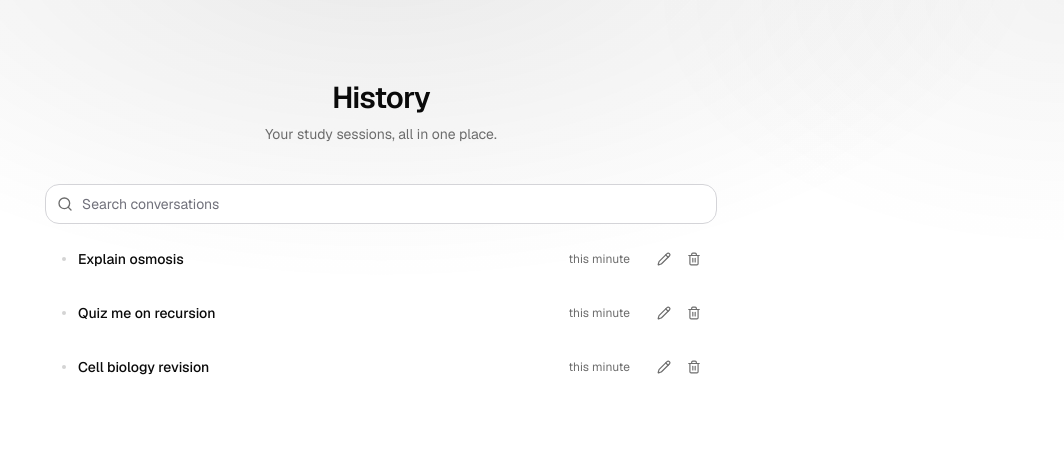
Scenario: HistoryClient — rename › a failed save keeps the form open with the error, and the old title stays
Click the button named "Rename conversation" in the row of "Explain osmosis". click: (664, 259)
box: x1=650 y1=245 x2=678 y2=273
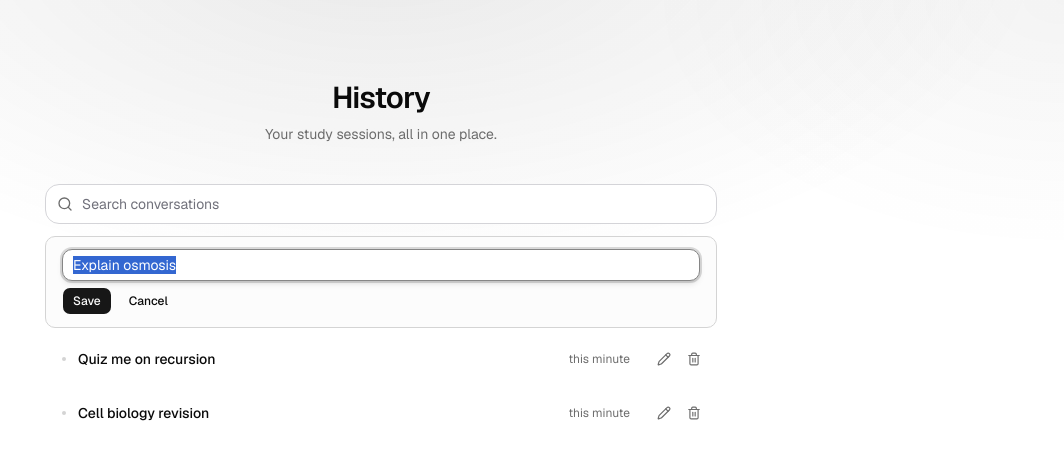
Replace the text in the field named "Conversation title" with "Something else". click: (381, 265)
box: x1=62 y1=249 x2=700 y2=281
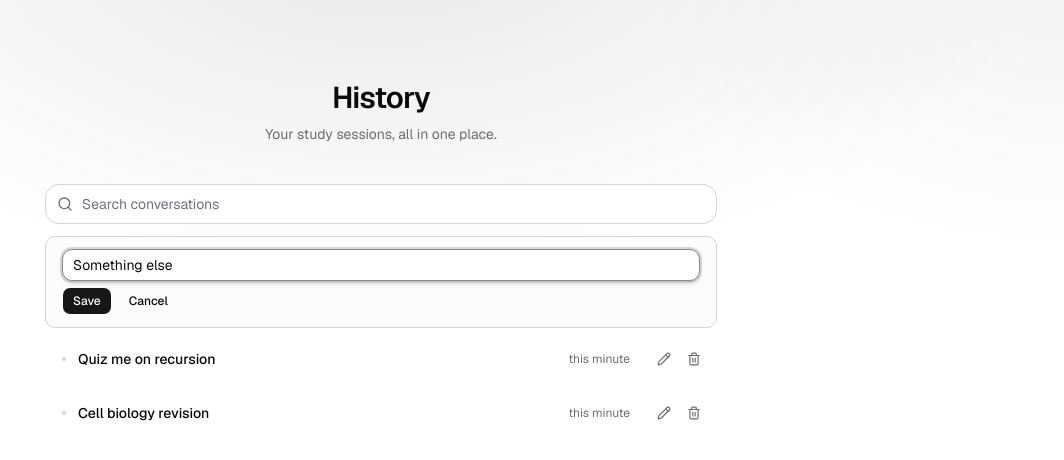
Submit the form from the field named "Conversation title", box x1=62 y1=249 x2=700 y2=281
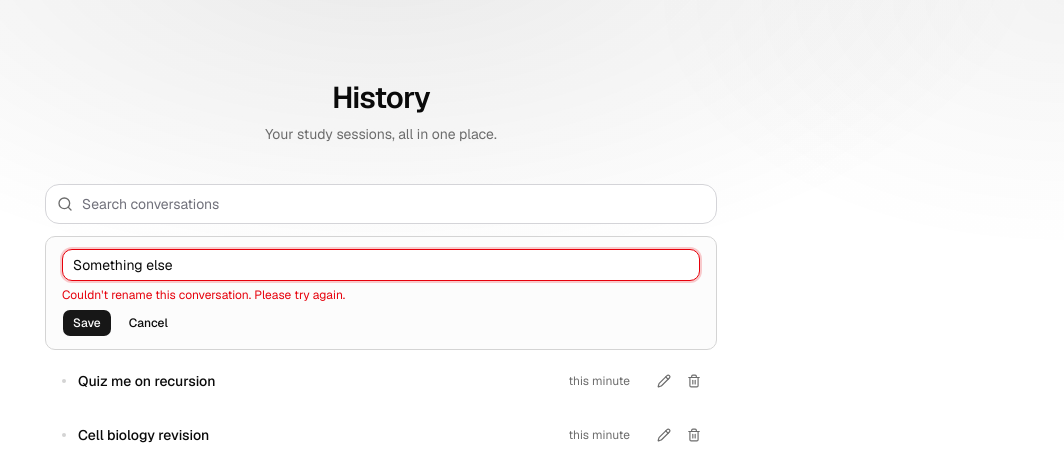
Expected: the message reads "Couldn't rename this conversation. Please try again.", x1=62 y1=287 x2=345 y2=303
Press Escape in the field named "Conversation title", box x1=62 y1=249 x2=700 y2=281
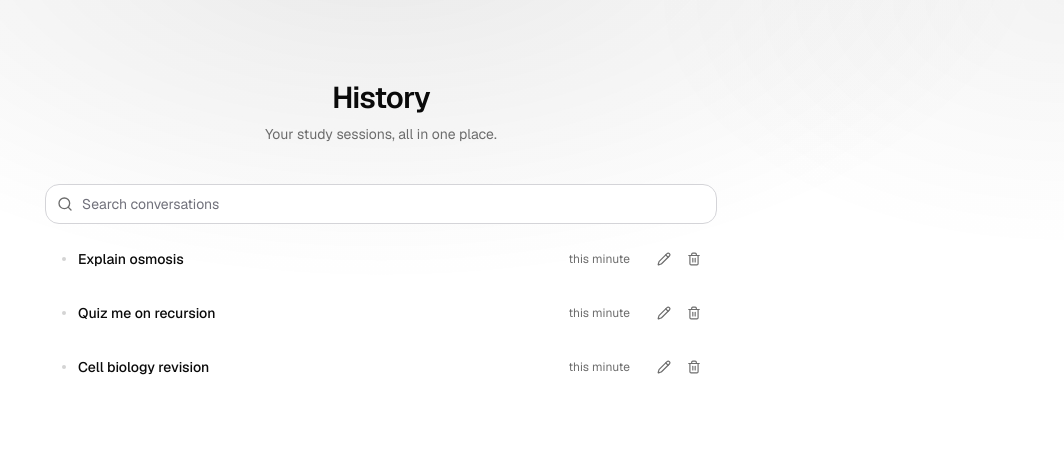
Expected: the link "Explain osmosis this minute" is shown, x1=62 y1=250 x2=630 y2=268
